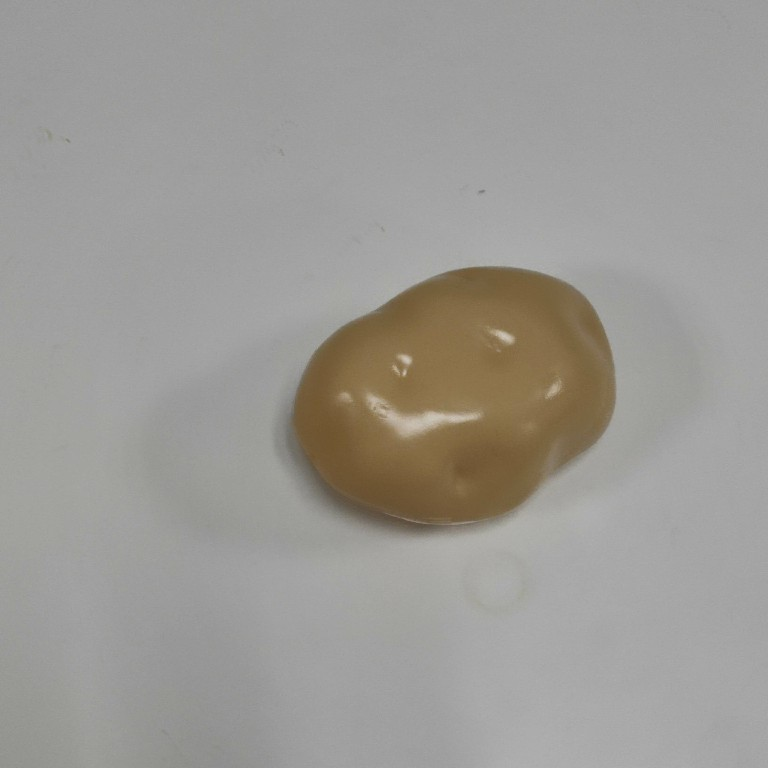fruit_potato: (287, 261, 619, 529)
